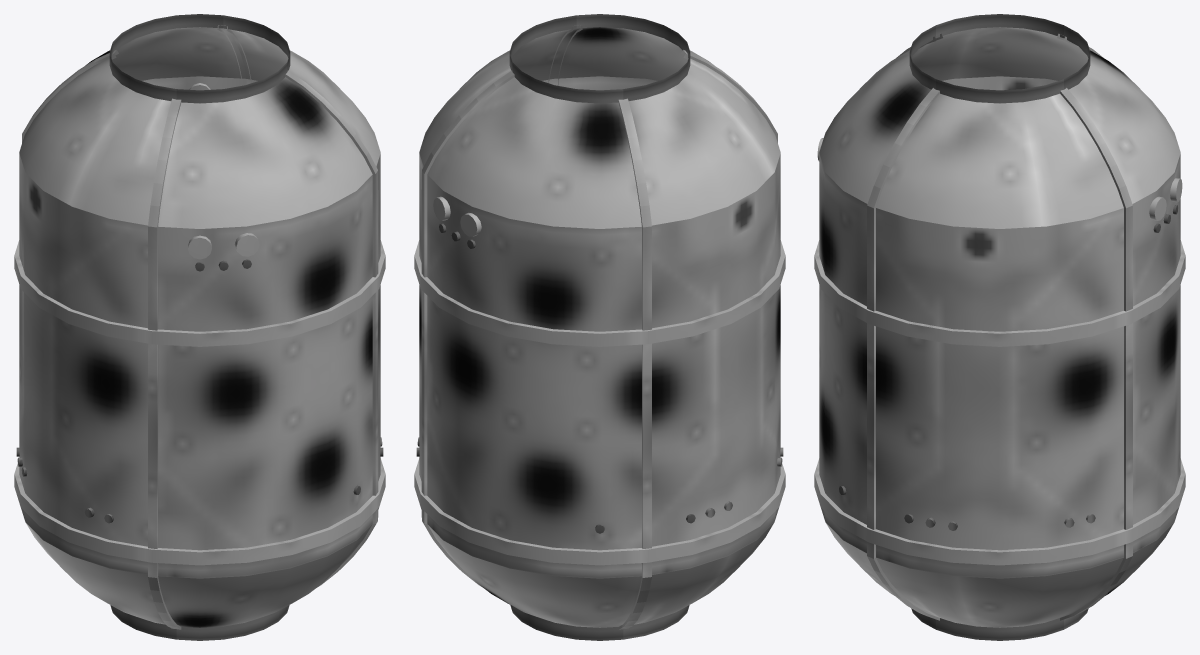
The model's file is working_fluid_capped.fbx.
3 renders of one model, left to right at view 1: azimuth 30°, elevation 25°; view 2: azimuth 150°, elevation 25°; view 3: azimuth 270°, elevation 25°, orthographic.
Parts seen in each view (by area): view 1: mesh; view 2: mesh; view 3: mesh.
Part boxes in pixels (<box>): mesh: <box>14,14,385,640</box>; mesh: <box>414,14,785,640</box>; mesh: <box>814,14,1185,640</box>.
Bounding box in the file's own units: 1.92 × 3.15 × 1.93.
